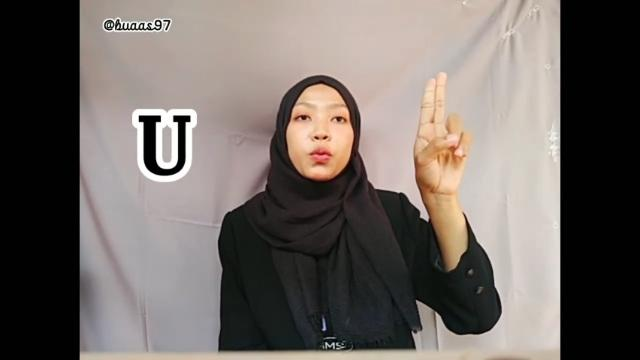U: (411, 68, 475, 194)
